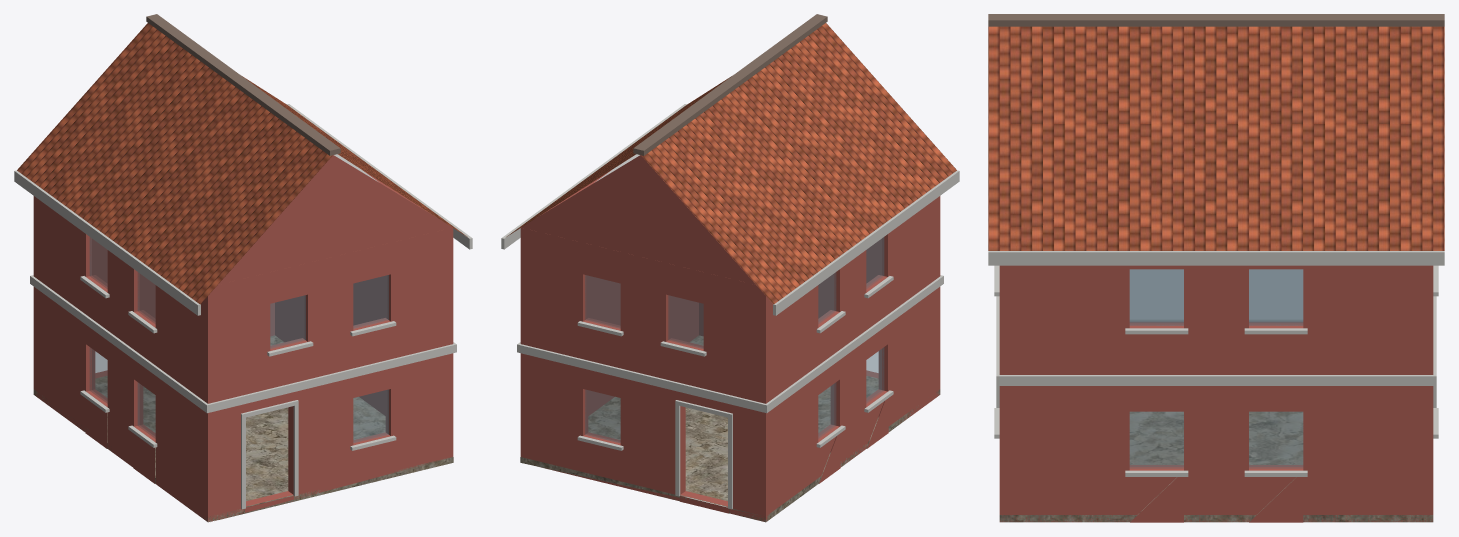
The model's file is cove-house-red.zfix-v7.lod1.glb.
The picture shows the model from 3 angles, left to right: view 1: azimuth 30°, elevation 25°; view 2: azimuth 150°, elevation 25°; view 3: azimuth 270°, elevation 25°; orthographic projection. The views are drawn at different scales.
Parts seen in each view (by area): view 1: cove-house-red; view 2: cove-house-red; view 3: cove-house-red.
Part boxes in pixels (x1,y1,x2,y2): cove-house-red: [14, 14, 472, 522]; cove-house-red: [501, 14, 959, 522]; cove-house-red: [988, 14, 1444, 522].
Size of the model in its own units: 7.28 by 8.78 by 8.42.
4 materials, 2 textured.
